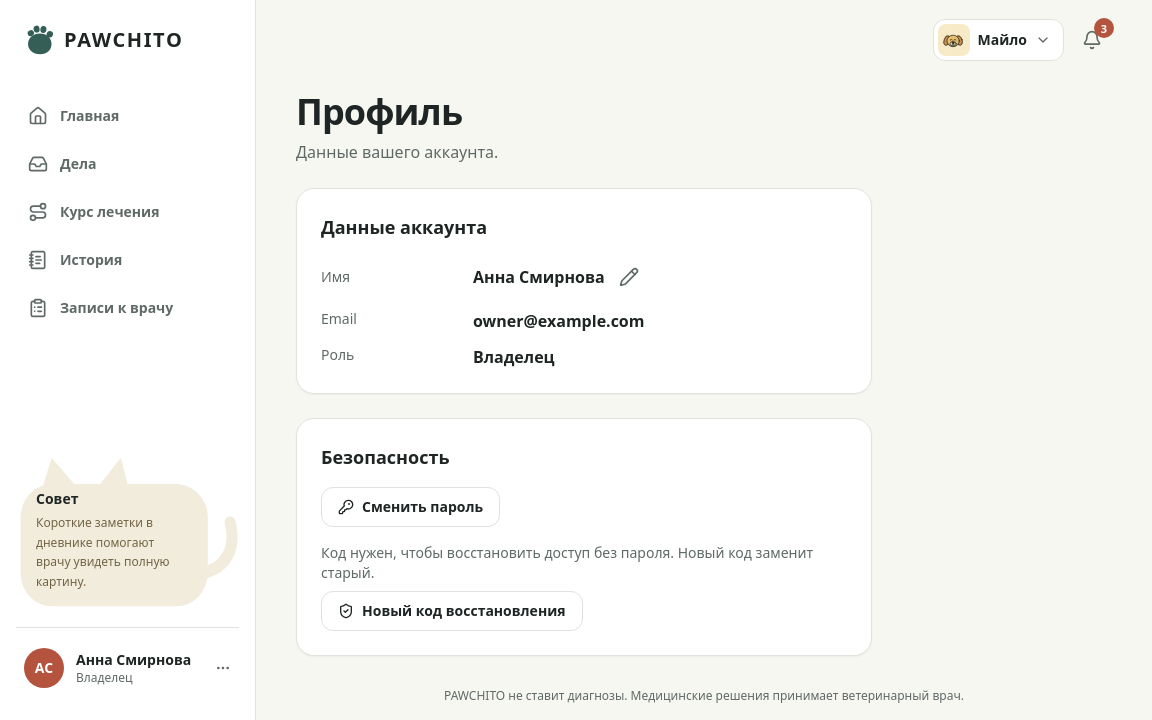
Scenario: ProfilePage › смена пароля: неверный текущий — ошибка у поля, модалка открыта
The width and height of the screenshot is (1152, 720).
Click the button "Сменить пароль" at [411, 507], box top-left (321, 487), bottom-right (500, 527)
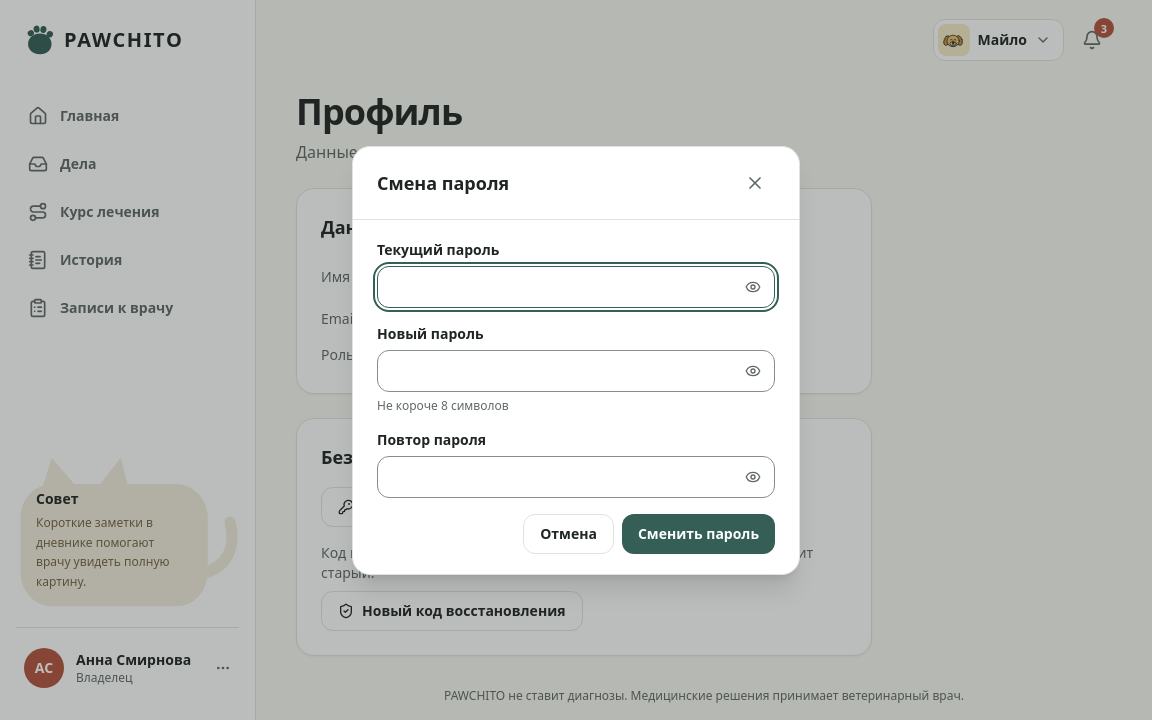
Type "wrong-pass" into the password field labelled "Текущий пароль" at [576, 286], box top-left (377, 266), bottom-right (775, 308)
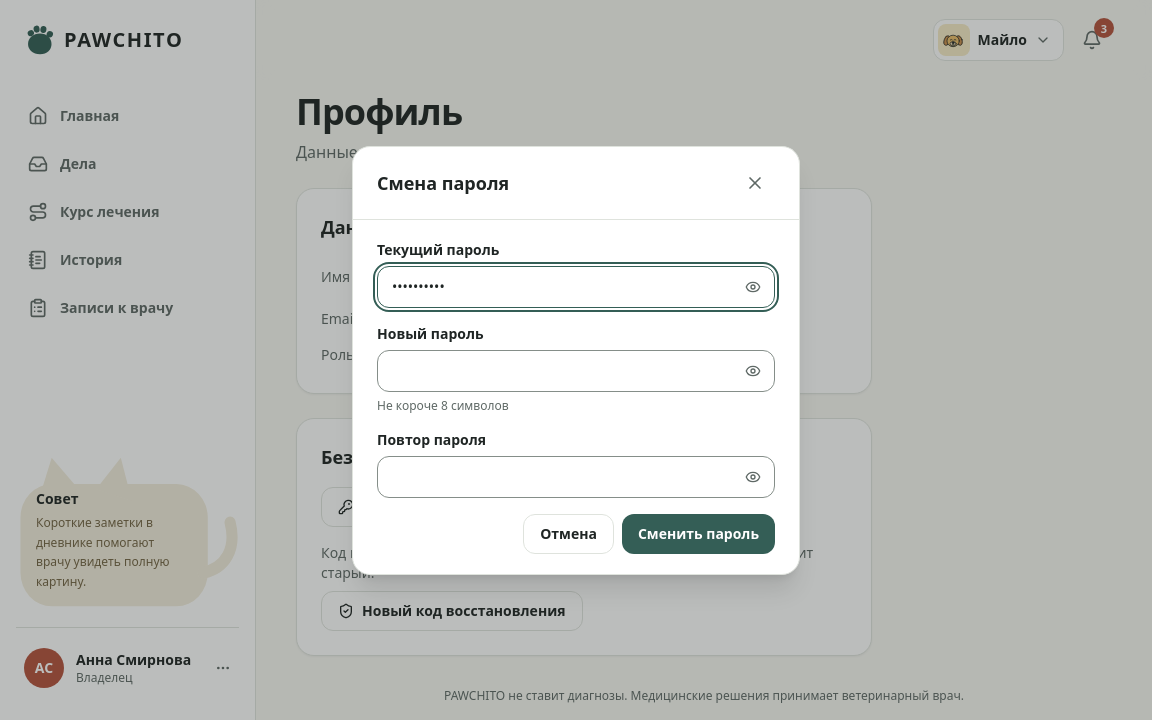
Type "newsecret1" into the password field labelled "Новый пароль" at [576, 370], box top-left (377, 350), bottom-right (775, 392)
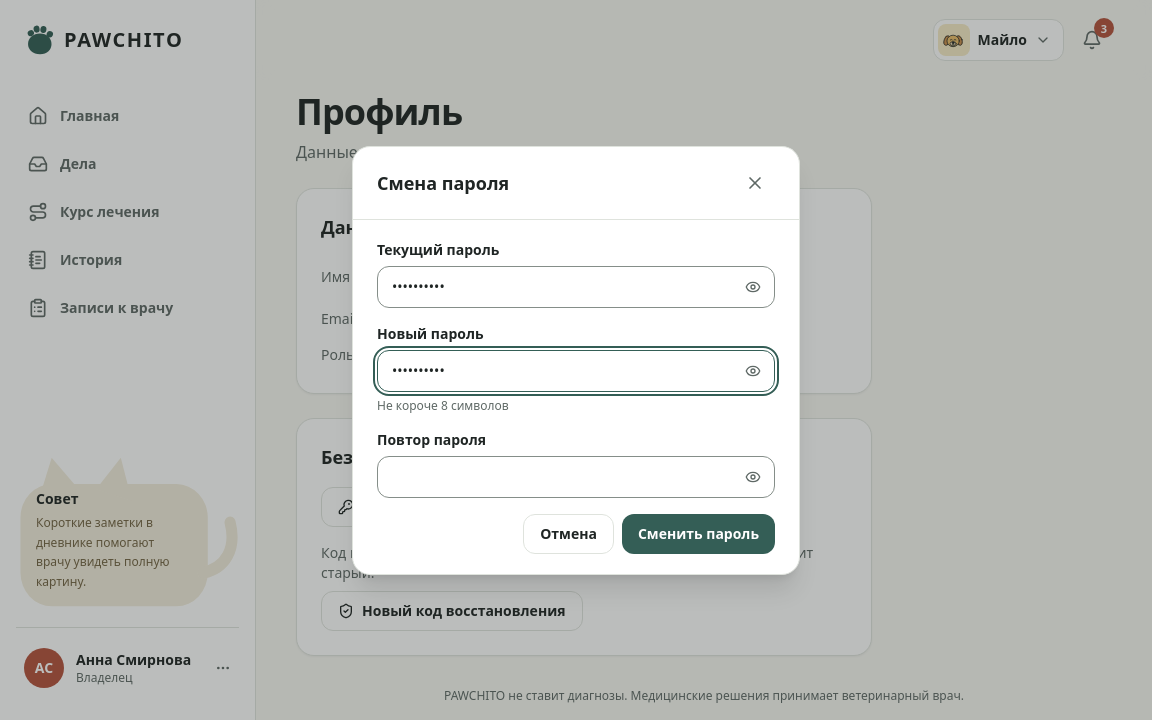
Type "newsecret1" into the password field labelled "Повтор пароля" at [576, 476], box top-left (377, 456), bottom-right (775, 498)
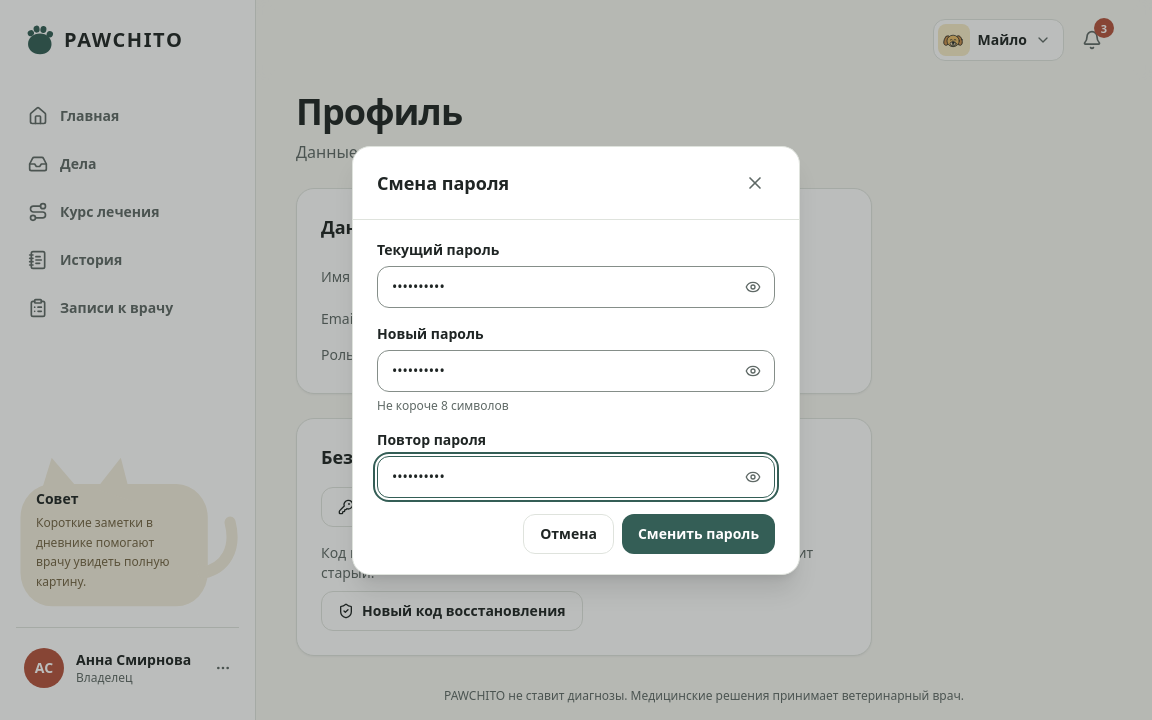
Click the button "Сменить пароль" at [698, 534], box top-left (622, 514), bottom-right (775, 554)
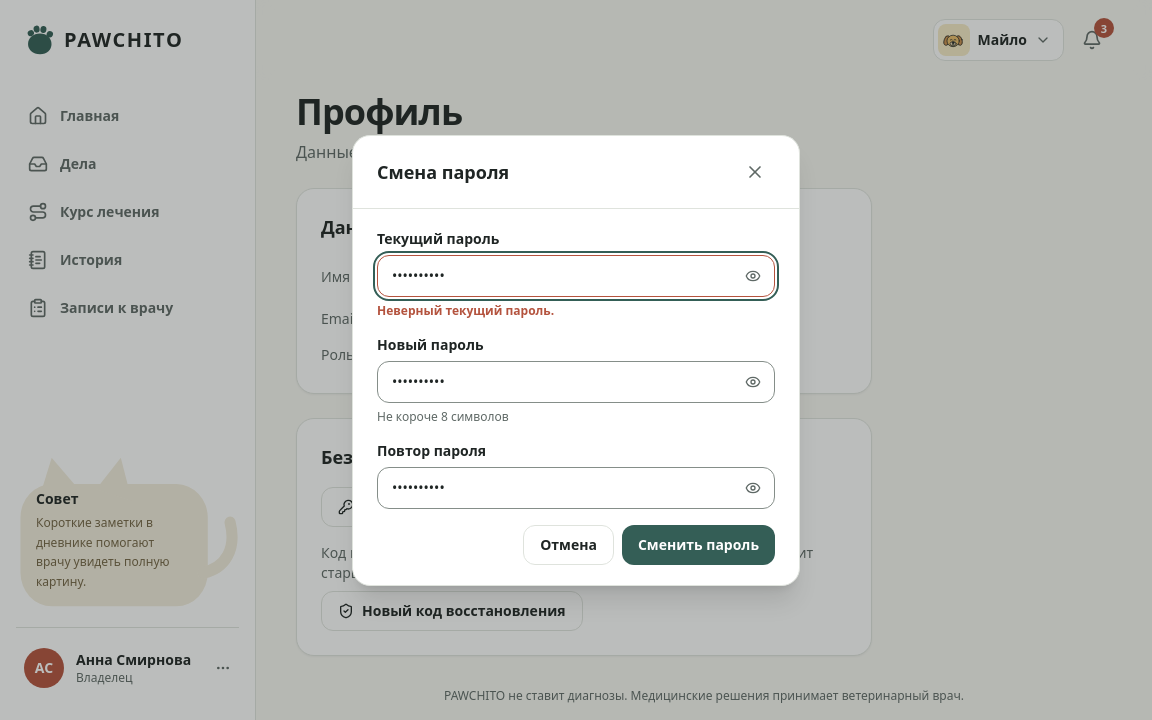
Result: the text "Неверный текущий пароль." is shown at top-left (377, 302), bottom-right (554, 318)
